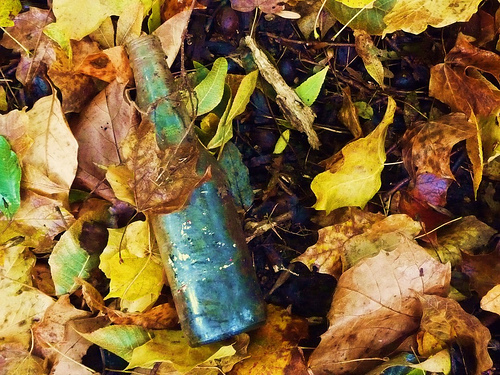litter: (123, 35, 267, 347)
